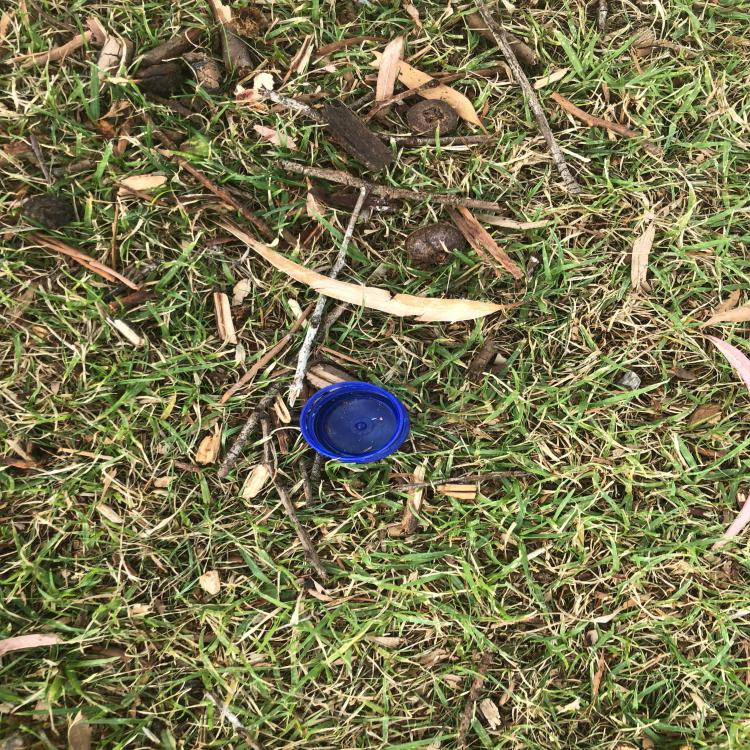Plastic bottle cap: (299, 381, 411, 463)
